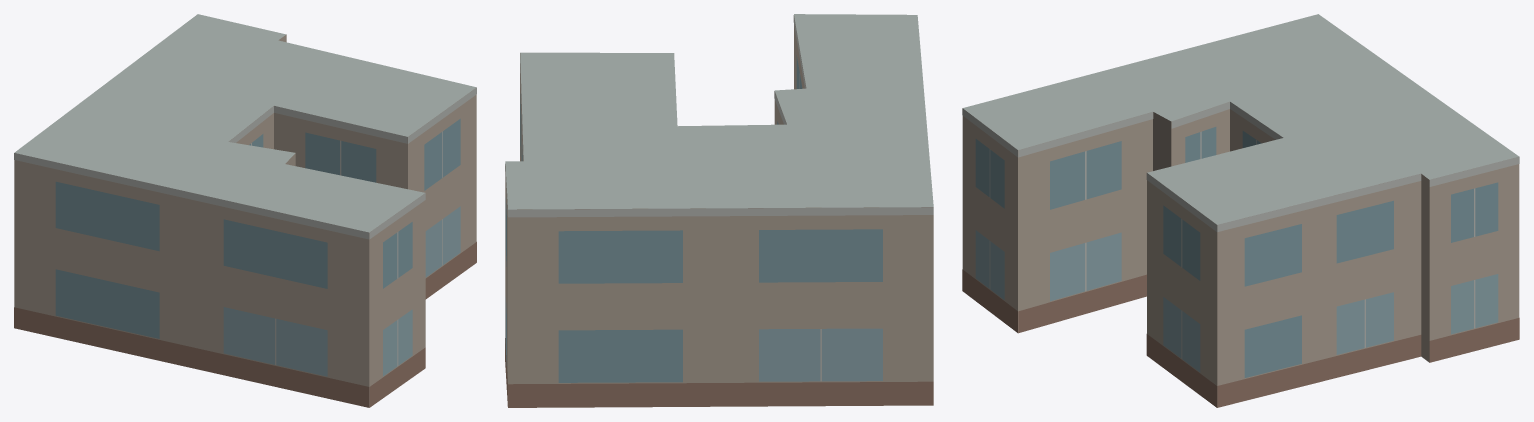
The model's file is survey-upis-32912876.glb.
3 renders of one model, left to right at view 1: azimuth 30°, elevation 25°; view 2: azimuth 150°, elevation 25°; view 3: azimuth 270°, elevation 25°, orthographic. The views are drawn at different scales.
Parts seen in each view (by area): view 1: survey-upis-32912876.tmp; view 2: survey-upis-32912876.tmp; view 3: survey-upis-32912876.tmp.
Part boxes in pixels (left/top/right/bottom): survey-upis-32912876.tmp: left=14, top=14, right=476, bottom=407; survey-upis-32912876.tmp: left=505, top=14, right=933, bottom=407; survey-upis-32912876.tmp: left=962, top=14, right=1519, bottom=407.
Bounding box in the file's own units: 15.09 × 6.1 × 16.83.
